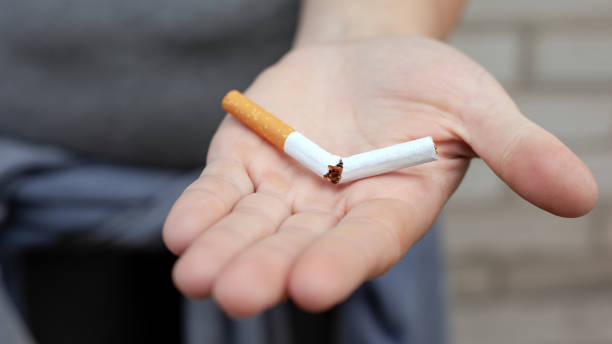cigarette: (222, 88, 341, 178), (328, 136, 438, 186)
